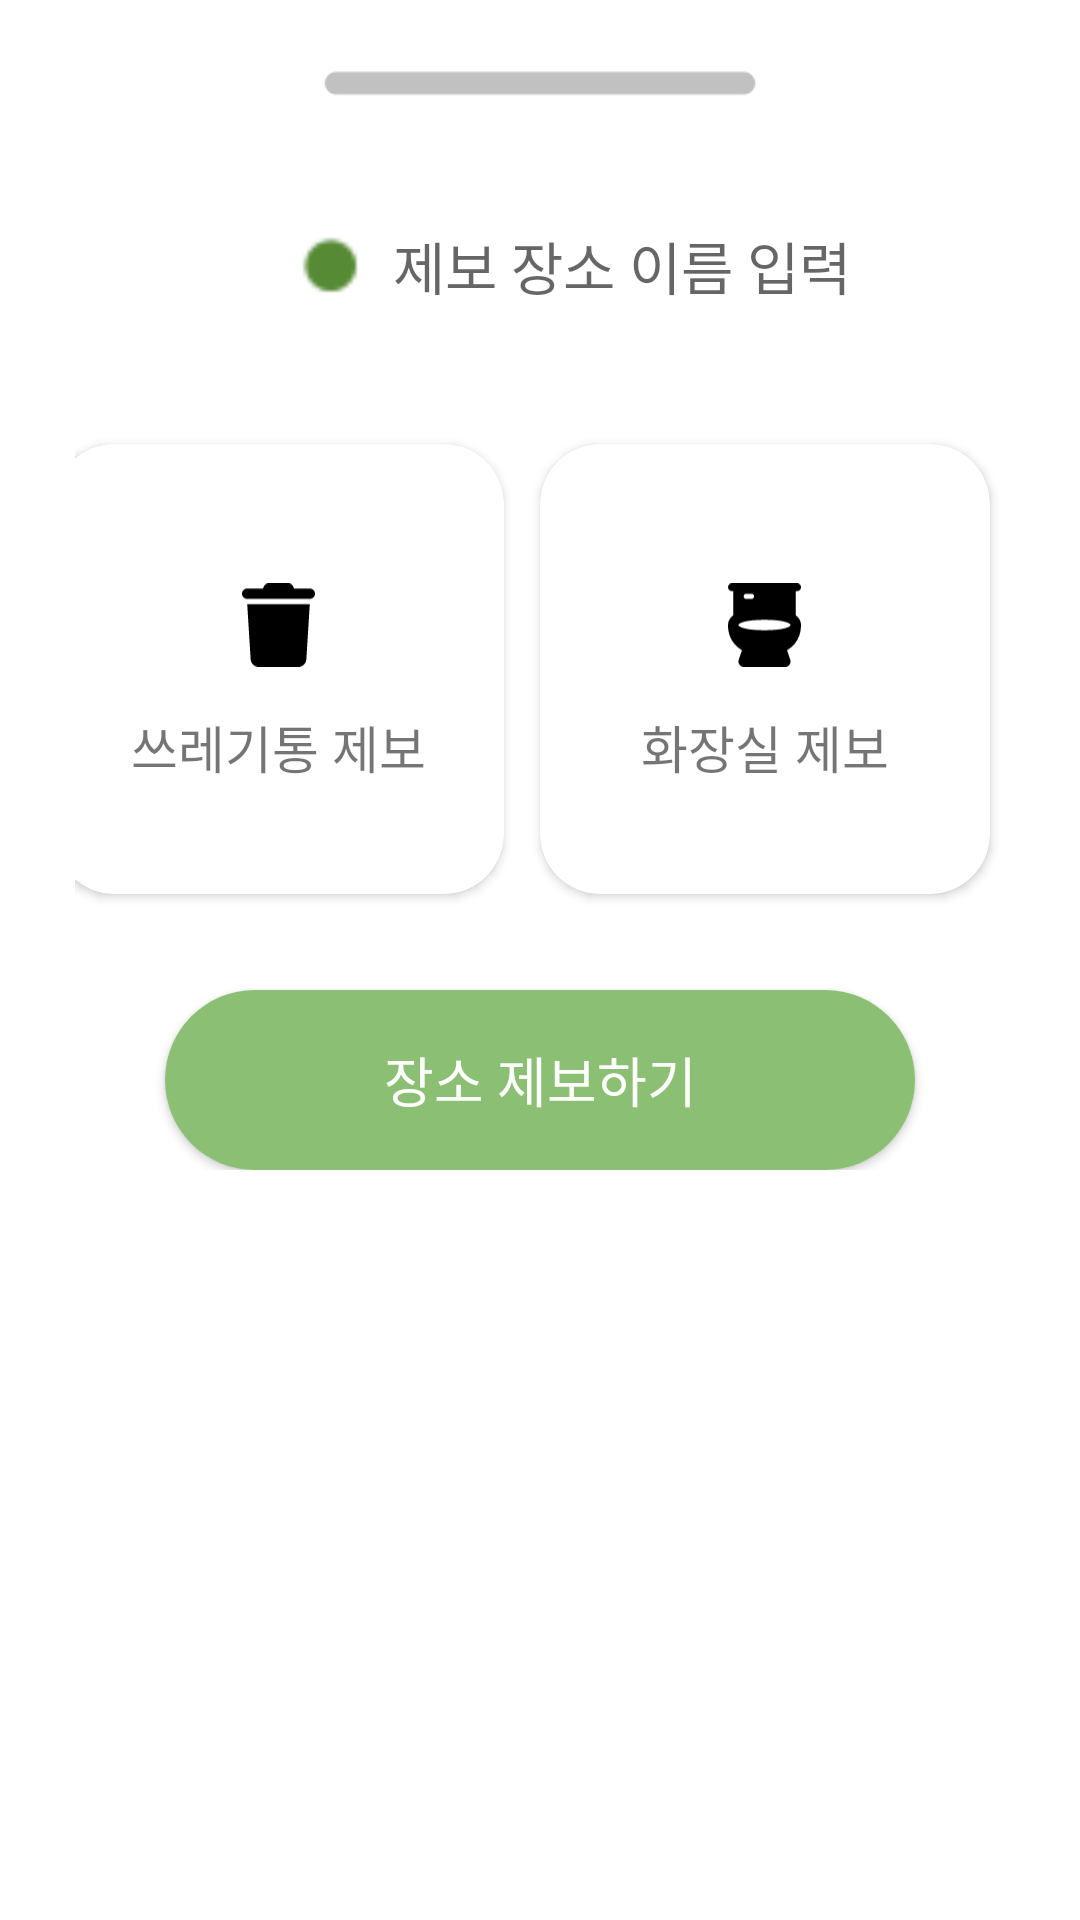

Icons on this 1080x1920 Android screen, each with the point to tap as (x,y):
toilet: (764,625)
trash: (278,625)
